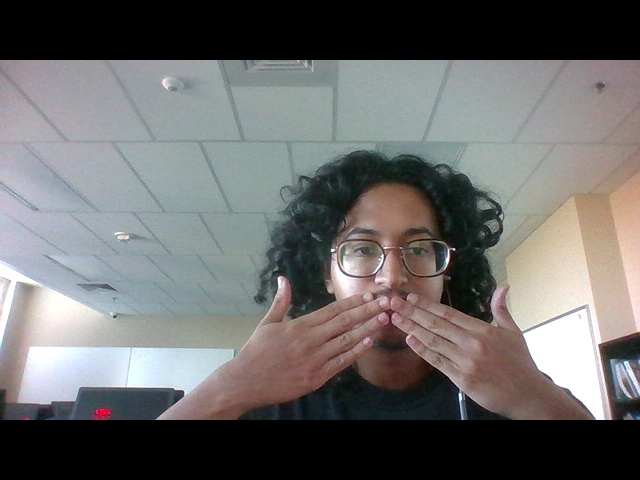thanks: (217, 276, 565, 405)
